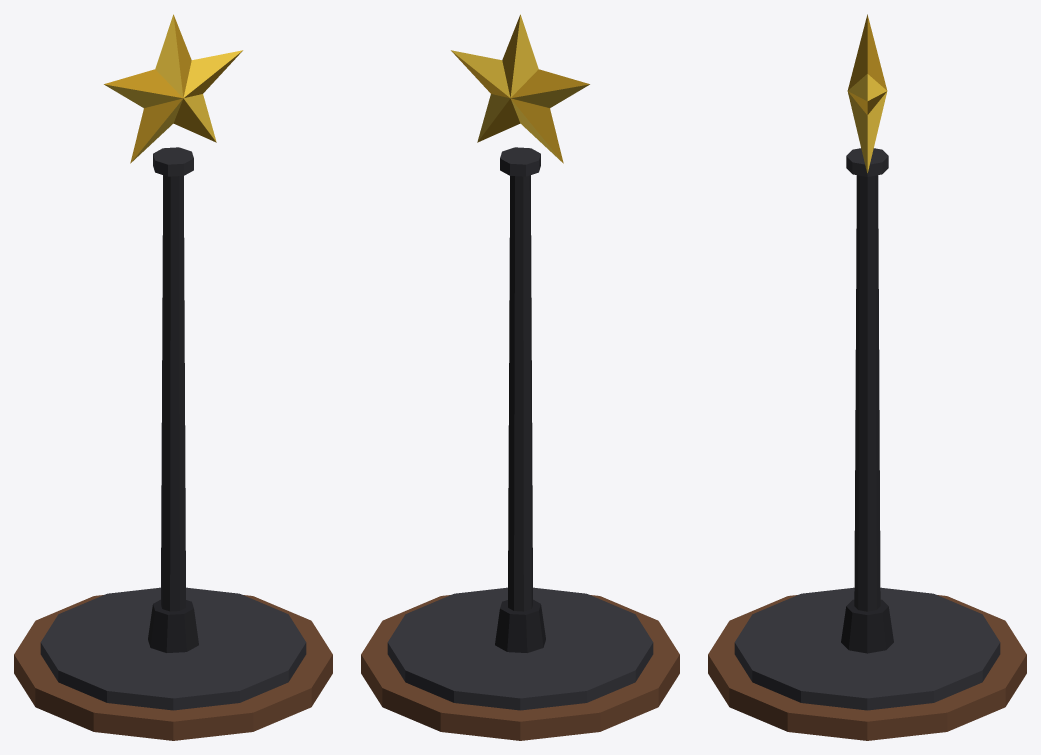
Rendered from StarPole.fbx.
The picture shows the model from 3 angles, left to right: view 1: azimuth 30°, elevation 25°; view 2: azimuth 150°, elevation 25°; view 3: azimuth 270°, elevation 25°; orthographic projection.
Parts seen in each view (by area): view 1: StarPole_Cream, StarPole_Stone, StarPole_Wood, StarPole_GlowGold, StarPole_WoodDark, StarPole_Gold; view 2: StarPole_Cream, StarPole_Stone, StarPole_Wood, StarPole_GlowGold, StarPole_WoodDark, StarPole_Gold; view 3: StarPole_Cream, StarPole_Stone, StarPole_Wood, StarPole_GlowGold, StarPole_WoodDark, StarPole_Gold.
Part boxes in pixels (<box>): StarPole_Cream: <box>40,587,306,710</box>; StarPole_Stone: <box>14,595,332,740</box>; StarPole_Wood: <box>161,175,185,611</box>; StarPole_GlowGold: <box>104,14,242,163</box>; StarPole_WoodDark: <box>148,599,198,652</box>; StarPole_Gold: <box>153,147,193,176</box>; StarPole_Cream: <box>387,587,653,710</box>; StarPole_Stone: <box>361,595,679,740</box>; StarPole_Wood: <box>508,175,532,611</box>; StarPole_GlowGold: <box>451,14,589,163</box>; StarPole_WoodDark: <box>495,599,545,652</box>; StarPole_Gold: <box>500,147,540,176</box>; StarPole_Cream: <box>734,587,1000,710</box>; StarPole_Stone: <box>708,595,1026,740</box>; StarPole_Wood: <box>854,175,880,611</box>; StarPole_GlowGold: <box>847,14,887,173</box>; StarPole_WoodDark: <box>841,599,893,653</box>; StarPole_Gold: <box>846,148,888,176</box>.
Bounding box in the file's own units: 1200 × 2740 × 1200.
1 material, 1 textured.
